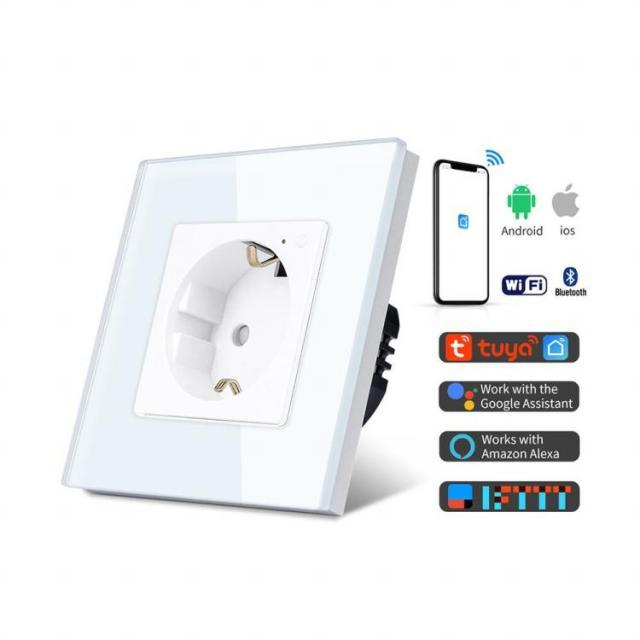typeb: (59, 118, 424, 534)
